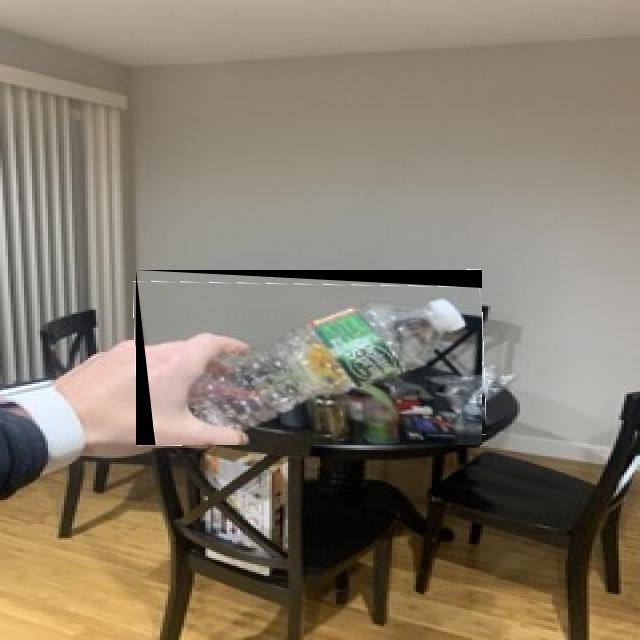water_bottle: (145, 283, 482, 445)
